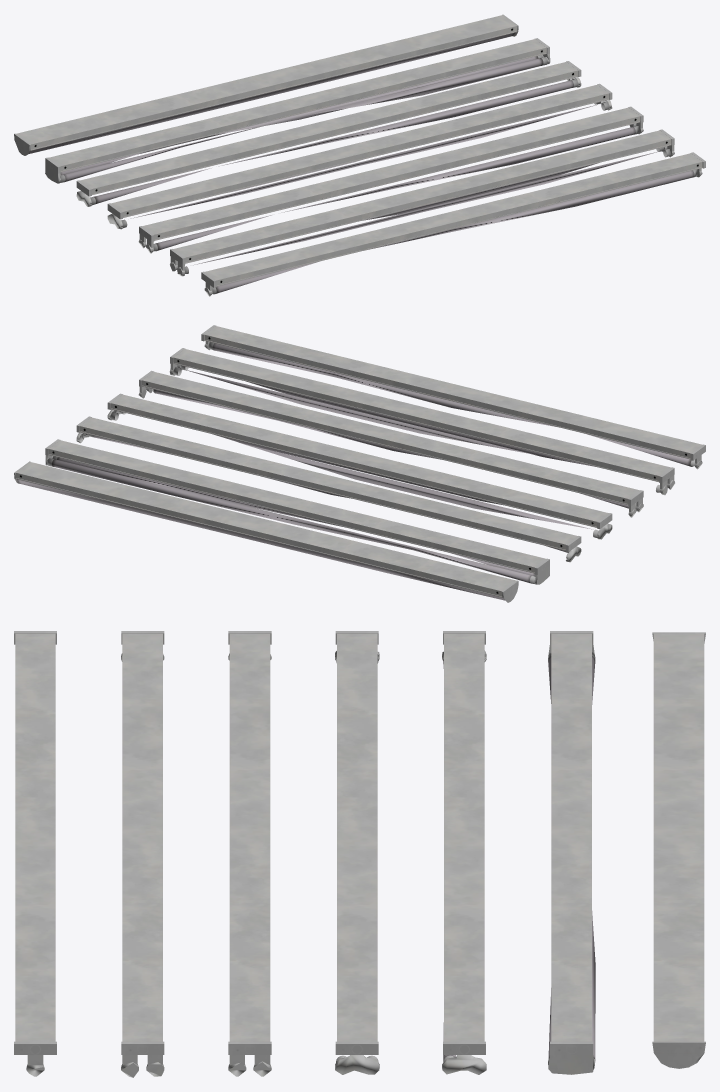
Rendered from mounted_fluorescent_lights.glb.
The picture shows the model from 3 angles, top to bottom: view 1: azimuth 30°, elevation 25°; view 2: azimuth 150°, elevation 25°; view 3: azimuth 270°, elevation 25°; orthographic projection. The views are drawn at different scales.
Parts seen in each view (by area): view 1: mounted_fluorescent_lights_f, mounted_fluorescent_lights_g, mounted_fluorescent_lights_c, mounted_fluorescent_lights_e, mounted_fluorescent_lights_b, mounted_fluorescent_lights_d, mounted_fluorescent_lights_a; view 2: mounted_fluorescent_lights_f, mounted_fluorescent_lights_g, mounted_fluorescent_lights_d, mounted_fluorescent_lights_b, mounted_fluorescent_lights_a, mounted_fluorescent_lights_c, mounted_fluorescent_lights_e; view 3: mounted_fluorescent_lights_g, mounted_fluorescent_lights_f, mounted_fluorescent_lights_c, mounted_fluorescent_lights_d, mounted_fluorescent_lights_e, mounted_fluorescent_lights_b, mounted_fluorescent_lights_a.
Boxes of the visible parts, left/top/right/bottom form: mounted_fluorescent_lights_f: left=45, top=38, right=550, bottom=183; mounted_fluorescent_lights_g: left=14, top=14, right=518, bottom=155; mounted_fluorescent_lights_c: left=138, top=106, right=643, bottom=253; mounted_fluorescent_lights_e: left=76, top=61, right=581, bottom=206; mounted_fluorescent_lights_b: left=170, top=129, right=674, bottom=276; mounted_fluorescent_lights_d: left=107, top=83, right=612, bottom=229; mounted_fluorescent_lights_a: left=201, top=152, right=705, bottom=296; mounted_fluorescent_lights_f: left=45, top=439, right=549, bottom=584; mounted_fluorescent_lights_g: left=14, top=461, right=518, bottom=602; mounted_fluorescent_lights_d: left=107, top=393, right=612, bottom=539; mounted_fluorescent_lights_b: left=169, top=348, right=674, bottom=495; mounted_fluorescent_lights_a: left=201, top=325, right=705, bottom=469; mounted_fluorescent_lights_c: left=138, top=370, right=643, bottom=517; mounted_fluorescent_lights_e: left=76, top=416, right=581, bottom=562; mounted_fluorescent_lights_g: left=652, top=632, right=705, bottom=1068; mounted_fluorescent_lights_f: left=548, top=631, right=595, bottom=1074; mounted_fluorescent_lights_c: left=228, top=631, right=271, bottom=1076; mounted_fluorescent_lights_d: left=335, top=631, right=379, bottom=1074; mounted_fluorescent_lights_e: left=442, top=631, right=486, bottom=1074; mounted_fluorescent_lights_b: left=121, top=631, right=164, bottom=1077; mounted_fluorescent_lights_a: left=14, top=631, right=56, bottom=1076.
Bounding box in the file's own units: 0.9122 × 0.0354 × 0.6454.
Materials: 2 (2 with a texture image).
